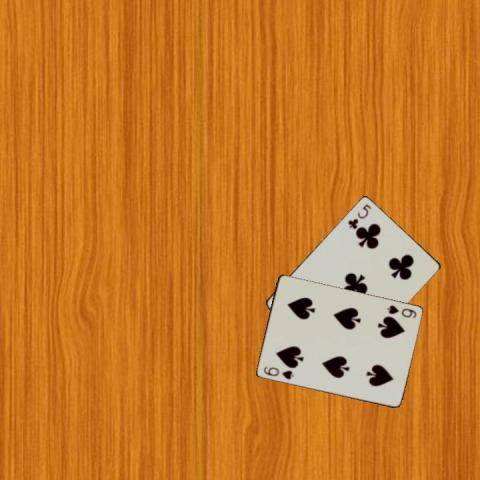5c: (344, 201, 372, 230)
6s: (260, 363, 294, 381), (384, 302, 417, 320)
